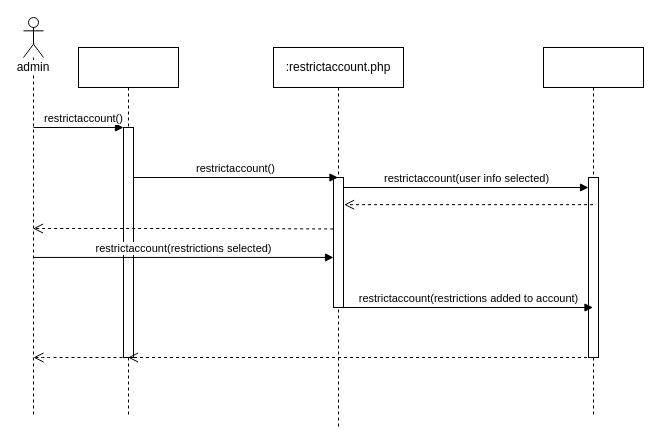
Some shapes in this 661 by 445 pixel diagram are drawn without their labels. Each missing label, with the box of its shape:
:database: (542, 46, 644, 418)
:user.php: (78, 46, 178, 418)
